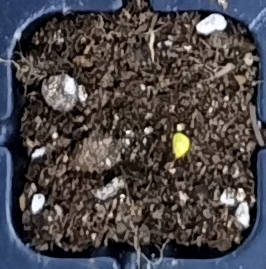chilli seed: (171, 132, 189, 159)
